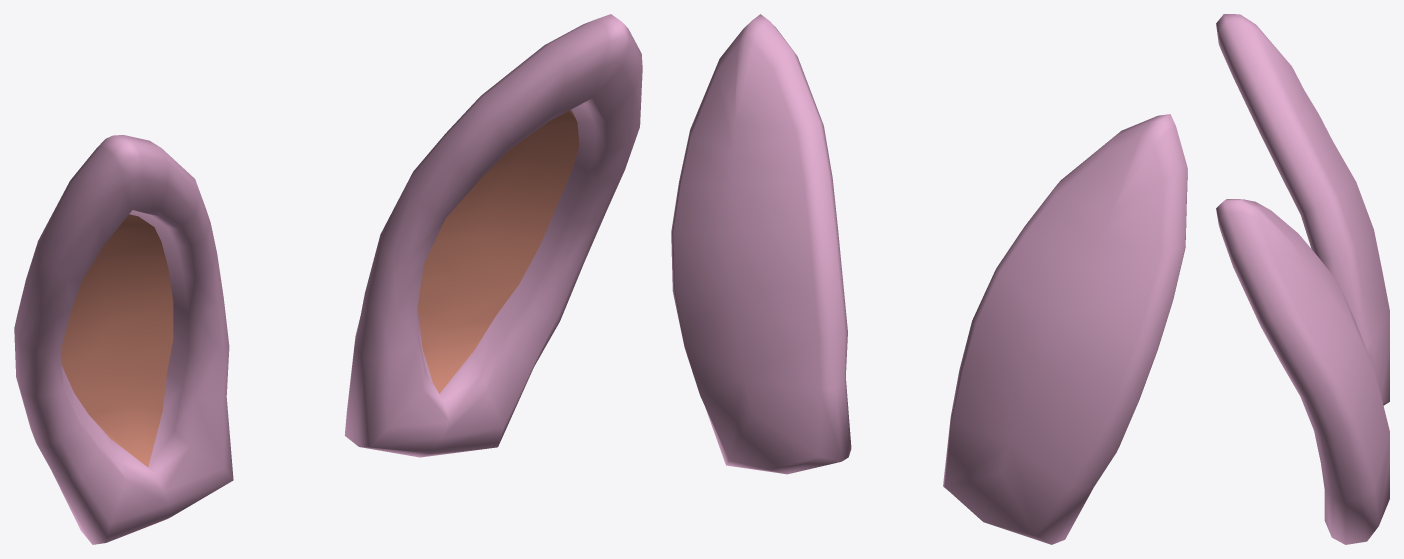
Rendered from Hat_65_01.fbx.
3 views of the same model, side by side, from view 1: azimuth 30°, elevation 25°; view 2: azimuth 150°, elevation 25°; view 3: azimuth 270°, elevation 25° (orthographic). The views are drawn at different scales.
Visible parts, largest first — view 1: Hat_65_01; view 2: Hat_65_01; view 3: Hat_65_01.
Part boxes in pixels (left/top/right/bottom): Hat_65_01: left=14, top=14, right=642, bottom=544; Hat_65_01: left=671, top=14, right=1187, bottom=544; Hat_65_01: left=1216, top=14, right=1389, bottom=544.
Size of the model in its own units: 33.47 by 25.32 by 11.02.
